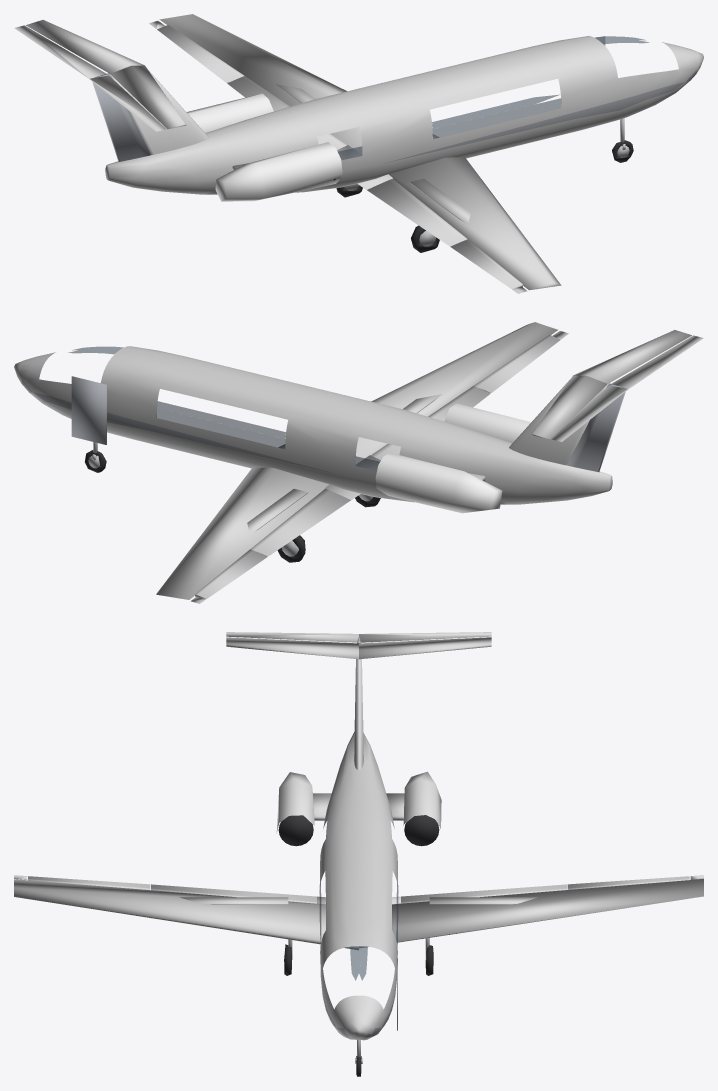
Rendered from vesta_lod2.glb.
3 views of the same model, one above another, from view 1: azimuth 30°, elevation 25°; view 2: azimuth 150°, elevation 25°; view 3: azimuth 270°, elevation 25° (orthographic). The views are drawn at different scales.
Parts seen in each view (by area): view 1: fuselage, wing_R, wing_L, nacelle_2, stabilizer, glass, elevator, flap_R_1, fin, rudder, nacelle_1, aileron_L (+3 smaller); view 2: fuselage, wing_L, wing_R, nacelle_1, stabilizer, glass, door_main, elevator, flap_L_1, fin, rudder, nacelle_2 (+4 smaller); view 3: fuselage, wing_R, wing_L, stabilizer, elevator, nacelle_1, nacelle_2, flap_R_1, flap_L_1, fin, fan_1_face, fan_2_face (+4 smaller).
Boxes of the visible parts, x1,y1,x2,y2 form: fuselage: (105,36,703,194); wing_R: (357,157,561,293); wing_L: (149,14,439,159); nacelle_2: (215,142,342,201); stabilizer: (26,20,186,129); glass: (338,36,648,159); elevator: (14,25,166,131); flap_R_1: (367,178,467,246); fin: (108,68,208,154); rudder: (92,73,150,161); nacelle_1: (187,93,273,132); aileron_L: (157,25,244,82); fuselage: (14,346,612,504); wing_L: (156,467,360,603); wing_R: (278,322,568,470); nacelle_1: (375,453,502,513); stabilizer: (531,330,691,439); glass: (68,346,379,470); door_main: (71,376,106,444); elevator: (551,335,703,441); flap_L_1: (250,488,350,556); fin: (509,379,609,465); rudder: (567,383,625,472); nacelle_2: (444,403,531,442); fuselage: (319,731,398,1040); wing_R: (14,875,358,950); wing_L: (359,875,703,948); stabilizer: (226,637,491,659); elevator: (226,632,491,642); nacelle_1: (403,771,441,828); nacelle_2: (276,772,314,833); flap_R_1: (151,884,316,903); flap_L_1: (401,884,566,903); fin: (354,643,363,769); fan_1_face: (404,815,439,846); fan_2_face: (278,815,313,846).
Bounding box in the file's own units: 15.05 × 5.15 × 15.6.
